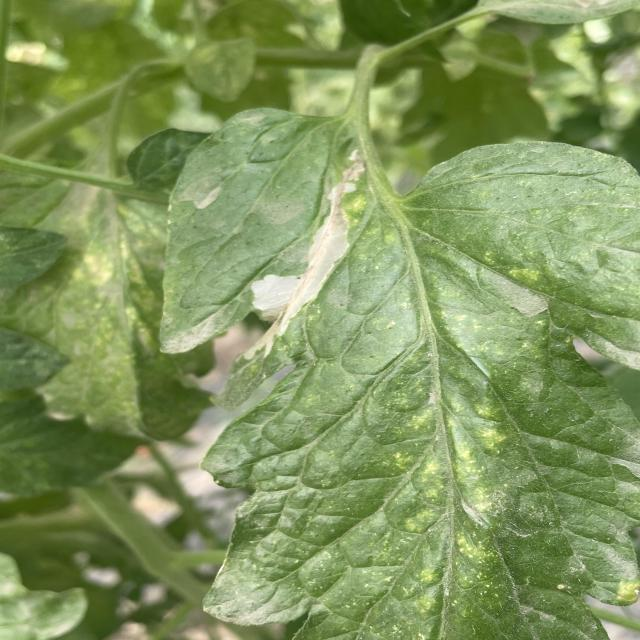Tuta absoluta: (214, 150, 401, 369)
